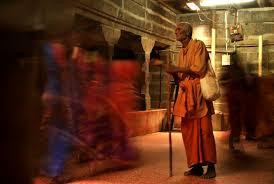Human: (164, 12, 222, 182)
